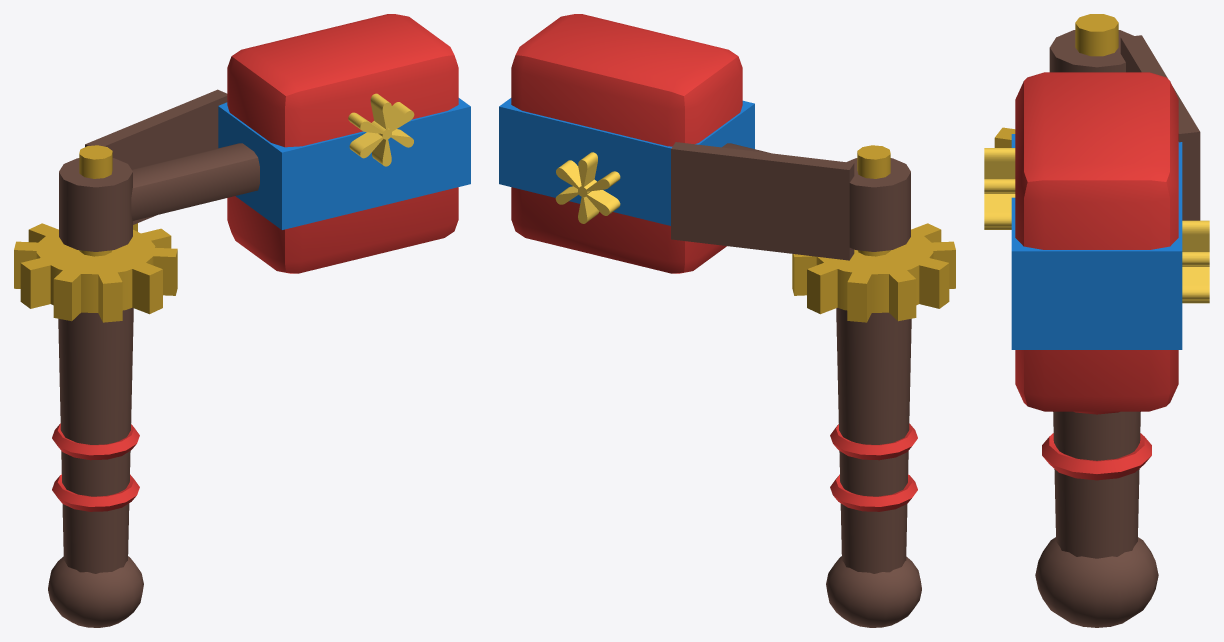
File: meta_grogger.glb
The picture shows the model from 3 angles, left to right: view 1: azimuth 30°, elevation 25°; view 2: azimuth 150°, elevation 25°; view 3: azimuth 270°, elevation 25°; orthographic projection. The views are drawn at different scales.
Visible parts, largest first — view 1: Grogger_Spin, MetaGrogger_handle; view 2: Grogger_Spin, MetaGrogger_handle; view 3: Grogger_Spin, MetaGrogger_handle.
Part boxes in pixels (x1,y1,x2,y2): Grogger_Spin: [59, 14, 470, 273]; MetaGrogger_handle: [14, 145, 177, 627]; Grogger_Spin: [499, 14, 910, 273]; MetaGrogger_handle: [792, 145, 955, 627]; Grogger_Spin: [984, 30, 1209, 411]; MetaGrogger_handle: [994, 14, 1158, 627].
Size of the model in its own units: 0.3335 by 0.399 by 0.124.
